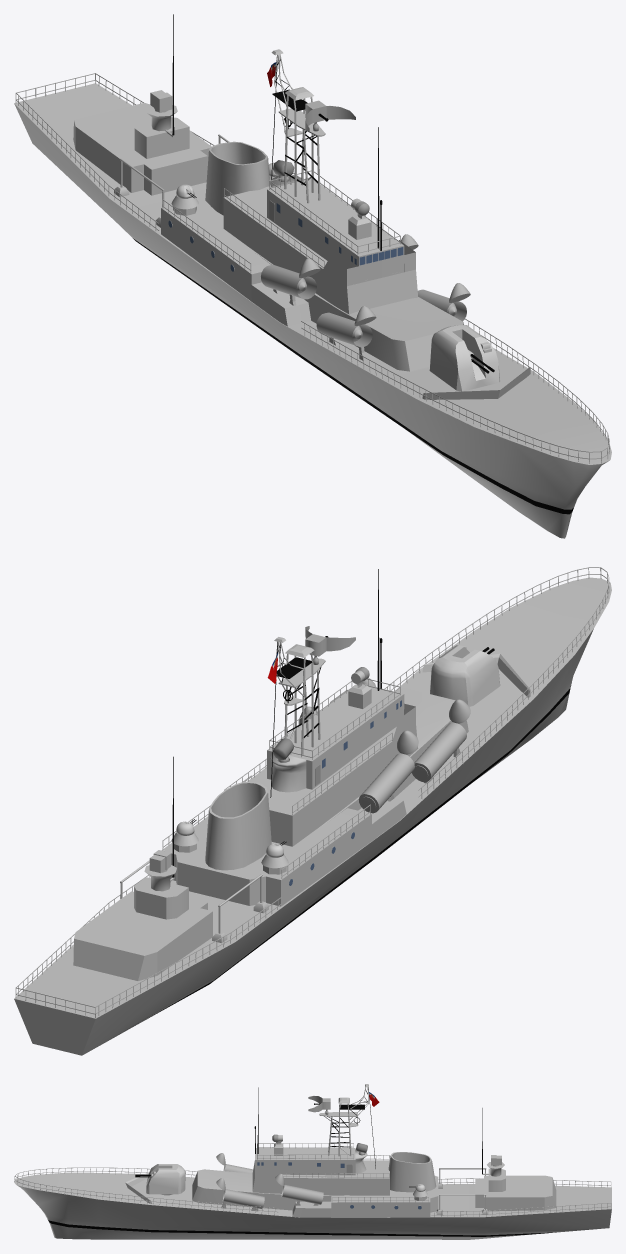
Rendered from kotor-class_frigate.glb.
The picture shows the model from 3 angles, top to bottom: view 1: azimuth 30°, elevation 25°; view 2: azimuth 150°, elevation 25°; view 3: azimuth 270°, elevation 25°; orthographic projection. The views are drawn at different scales.
Visible parts, largest first — view 1: KotorFrigate_body, AK726_turret, P15_front_right, P15_back_right, P15_front_left, RadarTurret; view 2: KotorFrigate_body, AK726_turret, P15_front_right, P15_back_right, RadarTurret; view 3: KotorFrigate_body, AK726_turret, P15_front_left, P15_back_left, RadarTurret, P15_front_right.
Part boxes in pixels (x1,y1,x2,y2): KotorFrigate_body: (14,14,611,538); AK726_turret: (429,325,499,391); P15_front_right: (316,306,376,360); P15_back_right: (261,258,320,305); P15_front_left: (417,283,470,321); RadarTurret: (305,100,355,131); KotorFrigate_body: (14,567,611,1055); AK726_turret: (430,645,500,706); P15_front_right: (412,699,470,783); P15_back_right: (358,730,418,813); RadarTurret: (305,626,355,664); KotorFrigate_body: (14,1084,611,1239); AK726_turret: (146,1164,185,1195); P15_front_left: (216,1178,264,1211); P15_back_left: (275,1174,323,1205); RadarTurret: (308,1096,330,1114); P15_front_right: (216,1153,253,1173).
Size of the model in its own units: 0.9697 by 2.06 by 7.31.
Materials: 2 (2 with a texture image).
